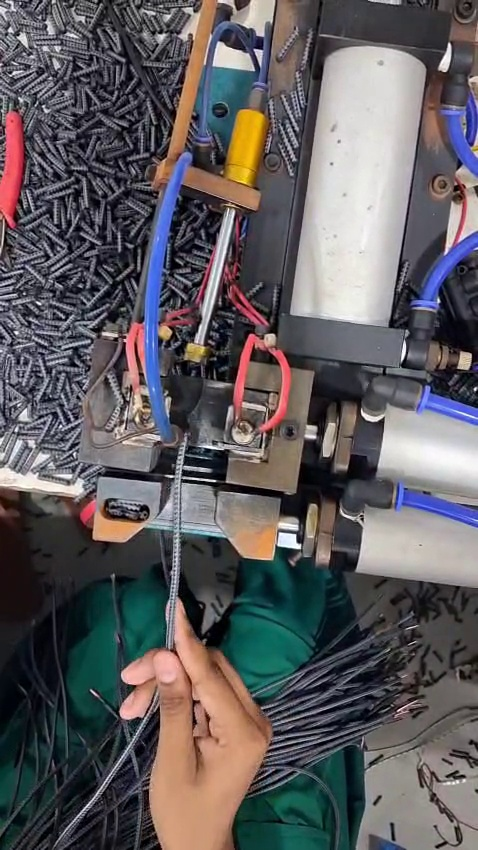intact_wire: (163, 423, 203, 509)
machine: (76, 313, 321, 538)
